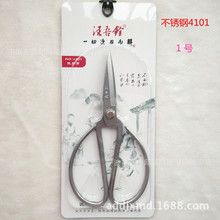scissor: (68, 47, 149, 206)
